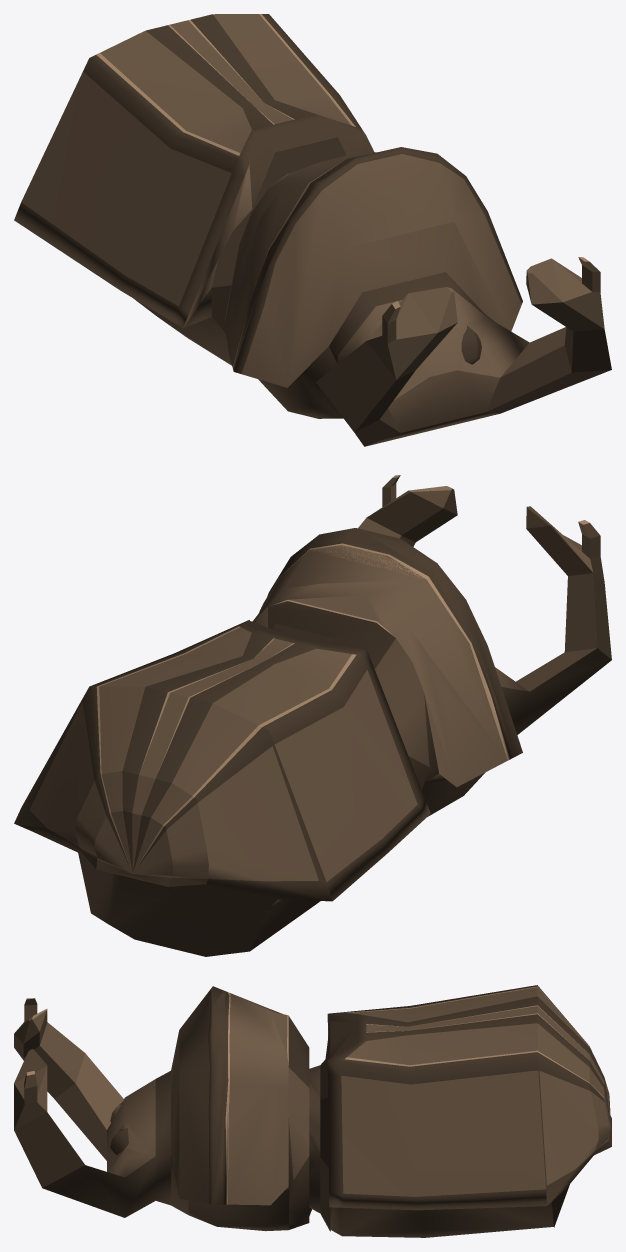
File: stag_beetle_model.fbx
3 renders of one model, top to bottom at view 1: azimuth 30°, elevation 25°; view 2: azimuth 150°, elevation 25°; view 3: azimuth 270°, elevation 25°, orthographic. The views are drawn at different scales.
Visible parts, largest first — view 1: pSphere4; view 2: pSphere4; view 3: pSphere4.
Boxes of the visible parts, left/top/right/bottom form: pSphere4: left=14, top=14, right=611, bottom=446; pSphere4: left=14, top=475, right=611, bottom=956; pSphere4: left=14, top=985, right=611, bottom=1237.
Bounding box in the file's own units: 1.44 × 1.19 × 2.88.
